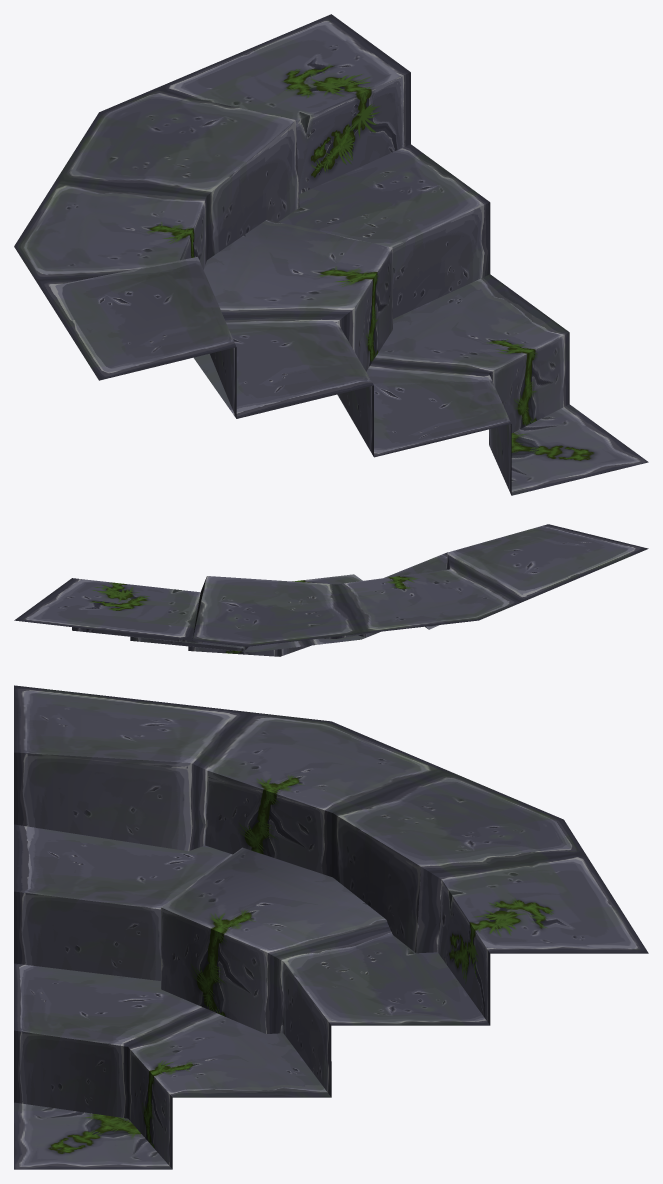
The model's file is MOD_Stairs_01_E_concave_4.fbx.
3 renders of one model, top to bottom at view 1: azimuth 30°, elevation 25°; view 2: azimuth 150°, elevation 25°; view 3: azimuth 270°, elevation 25°, orthographic. The views are drawn at different scales.
Visible parts, largest first — view 1: MOD_Stairs_01_E_concave_4; view 2: MOD_Stairs_01_E_concave_4; view 3: MOD_Stairs_01_E_concave_4.
Boxes of the visible parts, x1,y1,x2,y2 form: MOD_Stairs_01_E_concave_4: [14, 14, 648, 495]; MOD_Stairs_01_E_concave_4: [14, 524, 648, 656]; MOD_Stairs_01_E_concave_4: [14, 685, 648, 1169].
Size of what is drawn, in the model's own units: 200 by 79.89 by 200.
